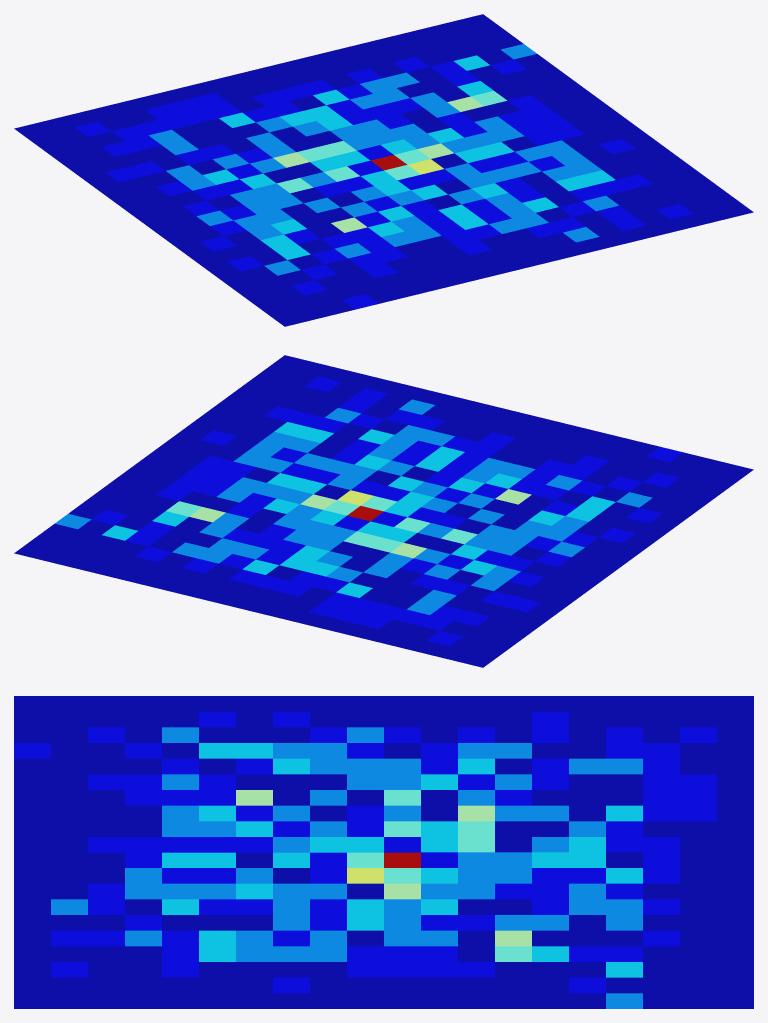
3 renders of one model, top to bottom at view 1: azimuth 30°, elevation 25°; view 2: azimuth 150°, elevation 25°; view 3: azimuth 270°, elevation 25°, orthographic. The views are drawn at different scales.
Visible parts, largest first — view 1: output4; view 2: output4; view 3: output4.
Boxes of the visible parts, x1,y1,x2,y2 form: output4: (14, 14, 753, 326); output4: (14, 355, 753, 667); output4: (14, 696, 753, 1008).
Size of the model in its own units: 20 by 3.37e-06 by 20.
